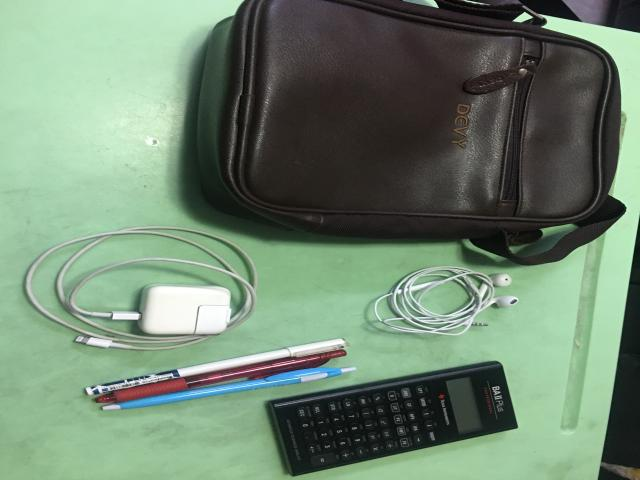Pen: (86, 339, 357, 412)
wire: (23, 226, 258, 351), (373, 266, 518, 336)
